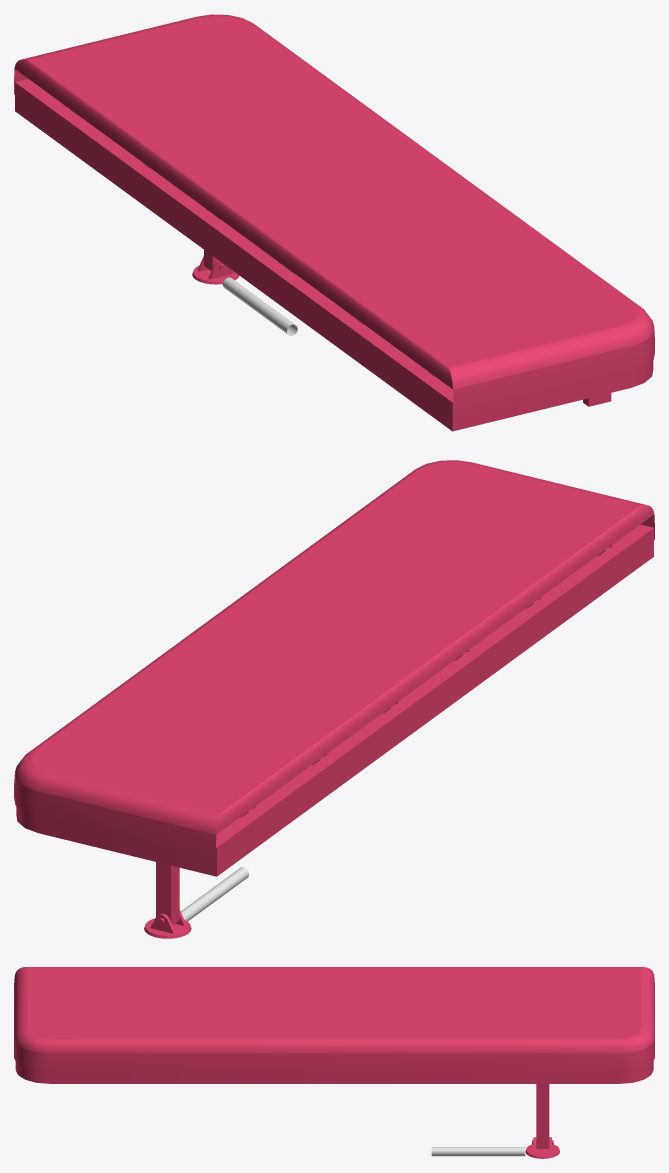
The model's file is Vagon_Stateroom_Furniture_BottomShelf_01.fbx.
The picture shows the model from 3 angles, top to bottom: view 1: azimuth 30°, elevation 25°; view 2: azimuth 150°, elevation 25°; view 3: azimuth 270°, elevation 25°; orthographic projection. The views are drawn at different scales.
Parts seen in each view (by area): view 1: Vagon_Stateroom_ConductRoom_Furniture_01.001, Vagon_Stateroom_Furniture_BottomShelf_Rod_01, Vagon_Stateroom_Furniture_BottomShelf_01; view 2: Vagon_Stateroom_ConductRoom_Furniture_01.001, Vagon_Stateroom_Furniture_BottomShelf_Shaft_01, Vagon_Stateroom_Furniture_BottomShelf_Rod_01, Vagon_Stateroom_Furniture_BottomShelf_01; view 3: Vagon_Stateroom_ConductRoom_Furniture_01.001, Vagon_Stateroom_Furniture_BottomShelf_Rod_01, Vagon_Stateroom_Furniture_BottomShelf_Shaft_01, Vagon_Stateroom_Furniture_BottomShelf_01.
Part boxes in pixels (x1=…): Vagon_Stateroom_ConductRoom_Furniture_01.001: x1=14, y1=14, x2=654, y2=431; Vagon_Stateroom_Furniture_BottomShelf_Rod_01: x1=222, y1=277, x2=297, y2=335; Vagon_Stateroom_Furniture_BottomShelf_01: x1=192, y1=256, x2=239, y2=284; Vagon_Stateroom_ConductRoom_Furniture_01.001: x1=14, y1=460, x2=654, y2=876; Vagon_Stateroom_Furniture_BottomShelf_Shaft_01: x1=156, y1=862, x2=179, y2=925; Vagon_Stateroom_Furniture_BottomShelf_Rod_01: x1=180, y1=867, x2=248, y2=921; Vagon_Stateroom_Furniture_BottomShelf_01: x1=144, y1=910, x2=191, y2=938; Vagon_Stateroom_ConductRoom_Furniture_01.001: x1=14, y1=967, x2=654, y2=1083; Vagon_Stateroom_Furniture_BottomShelf_Rod_01: x1=431, y1=1147, x2=525, y2=1156; Vagon_Stateroom_Furniture_BottomShelf_Shaft_01: x1=536, y1=1084, x2=549, y2=1148; Vagon_Stateroom_Furniture_BottomShelf_01: x1=525, y1=1137, x2=559, y2=1158.
Bounding box in the file's own units: 0.5276 × 0.4592 × 1.83.
